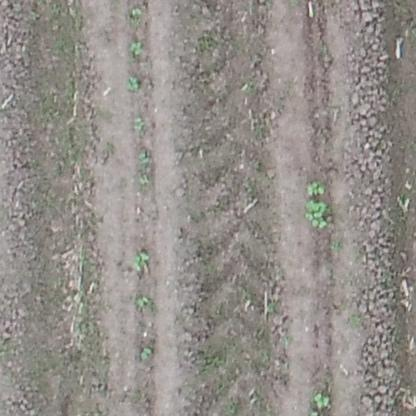vc: (303, 199, 330, 228), (132, 247, 152, 274), (304, 178, 327, 196), (312, 391, 332, 409), (137, 344, 153, 362), (127, 41, 146, 56), (129, 116, 146, 132), (129, 5, 144, 19), (125, 75, 139, 89), (137, 295, 150, 307)
